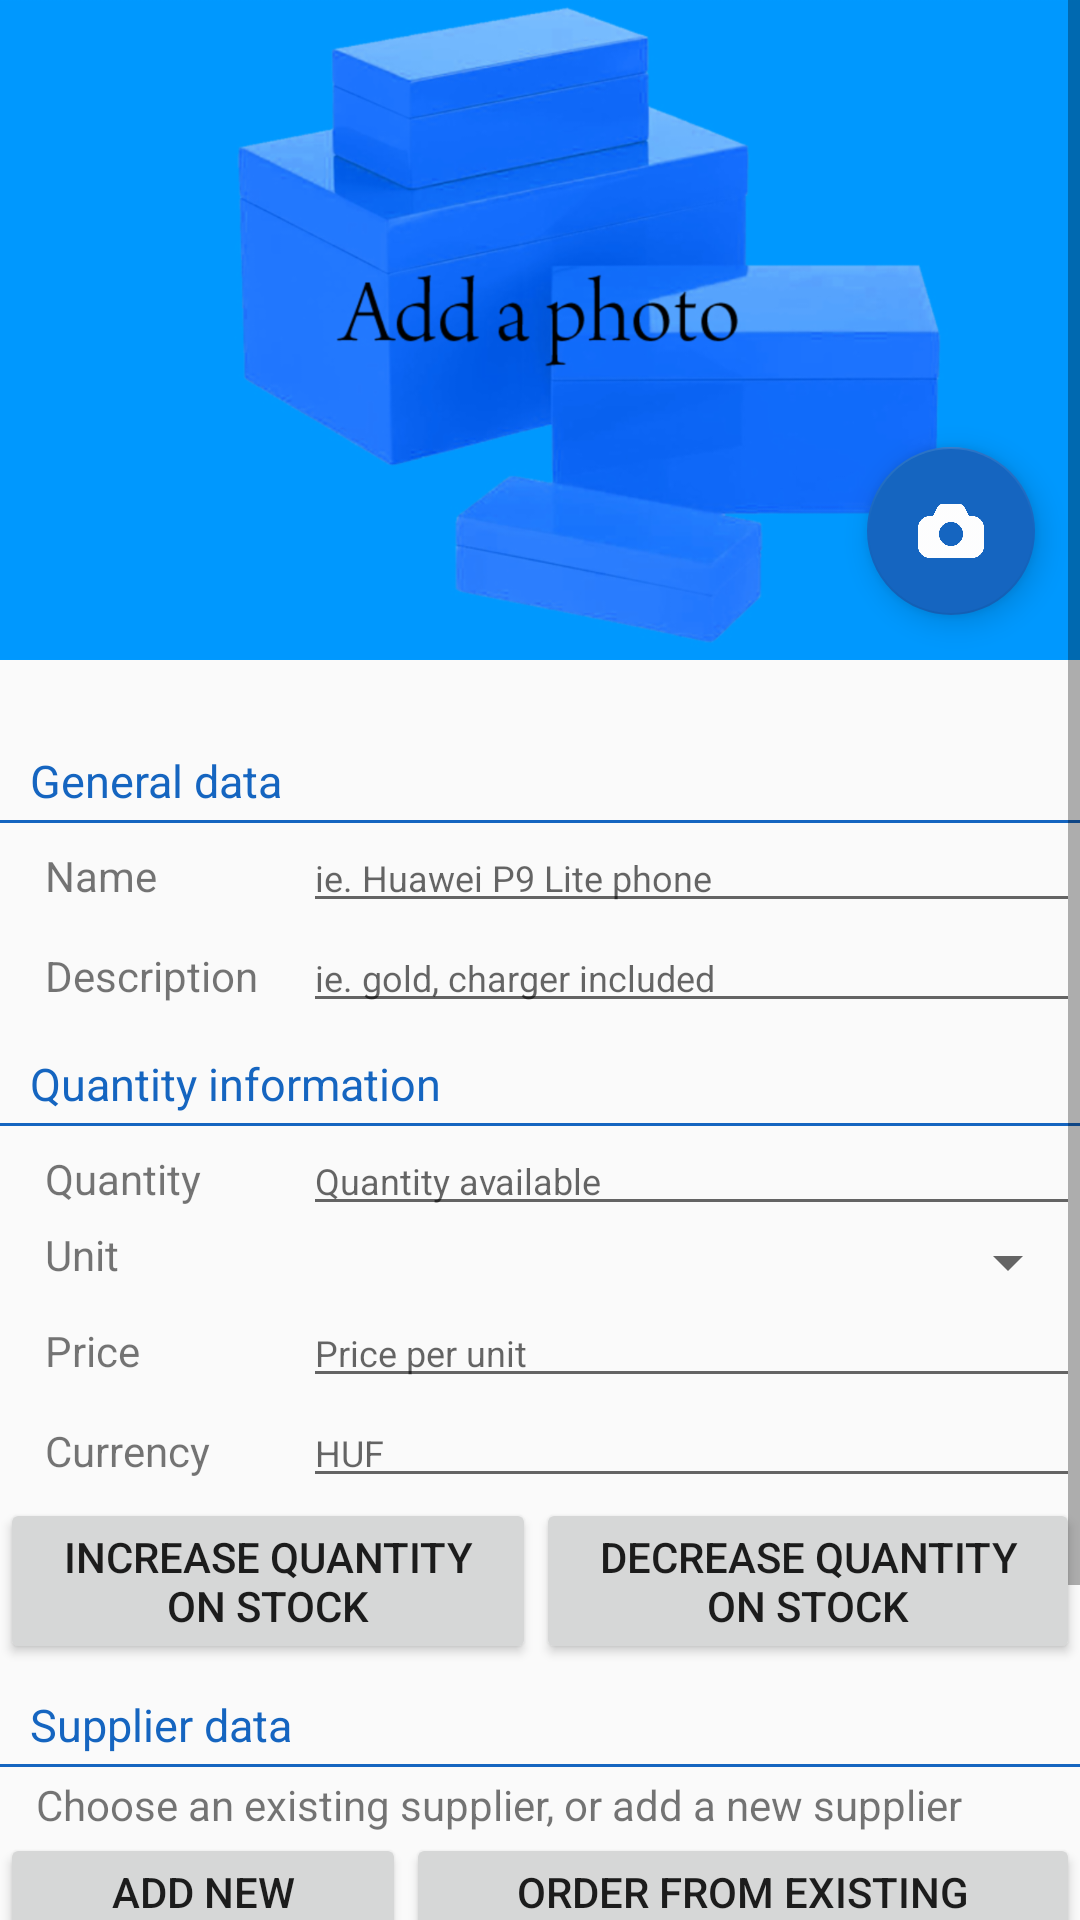

Icon click points for this 1080x1920 phone screenshot, format (x,y):
add photo: (951,531)
